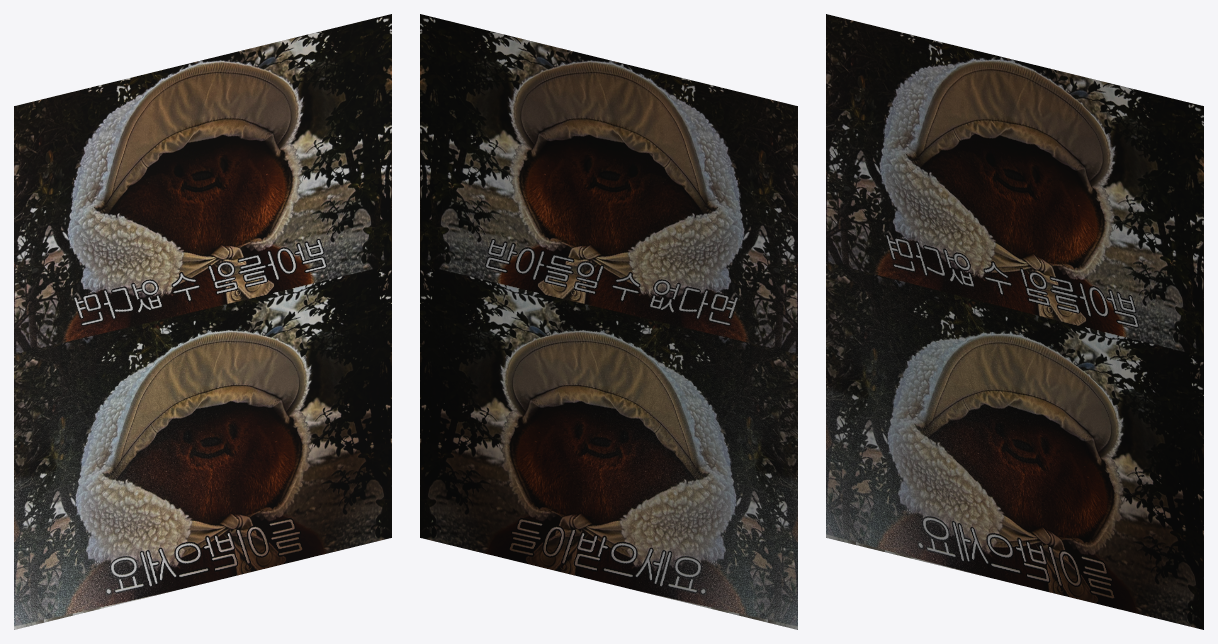
Rendered from poster.fbx.
The picture shows the model from 3 angles, left to right: view 1: azimuth 30°, elevation 25°; view 2: azimuth 150°, elevation 25°; view 3: azimuth 330°, elevation 25°; orthographic projection.
Visible parts, largest first — view 1: Plane; view 2: Plane; view 3: Plane.
Part boxes in pixels (x1,y1,x2,y2): Plane: (14, 14, 391, 629); Plane: (420, 14, 797, 629); Plane: (826, 14, 1203, 629).
Bounding box in the file's own units: 74.4 × 98.61 × 3.7e-14.
1 material, 1 textured.
